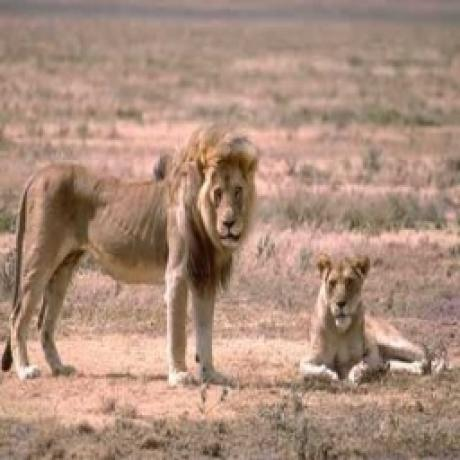Lion: (1, 132, 259, 389), (297, 251, 439, 381)
